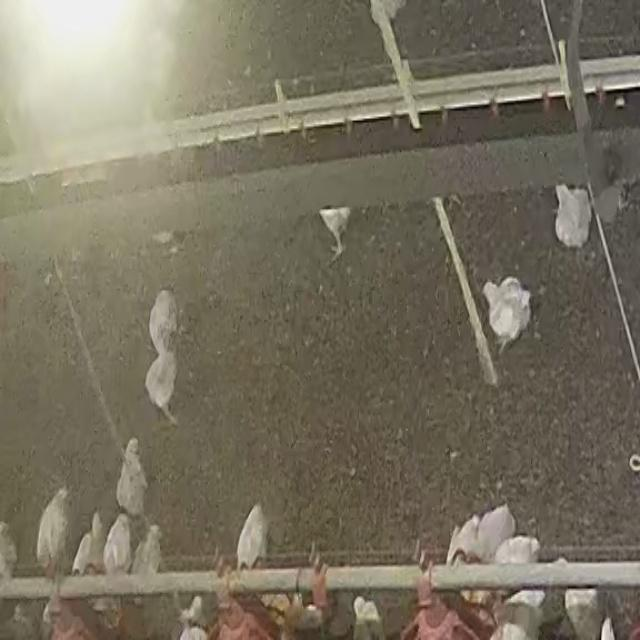chicken: (484, 273, 532, 340), (141, 279, 177, 352), (120, 442, 154, 517), (36, 488, 69, 562), (243, 508, 280, 572), (145, 352, 182, 415), (556, 187, 596, 244), (133, 522, 168, 578), (480, 507, 520, 554), (494, 527, 544, 564), (101, 514, 130, 574), (78, 510, 105, 570), (456, 512, 476, 559)
